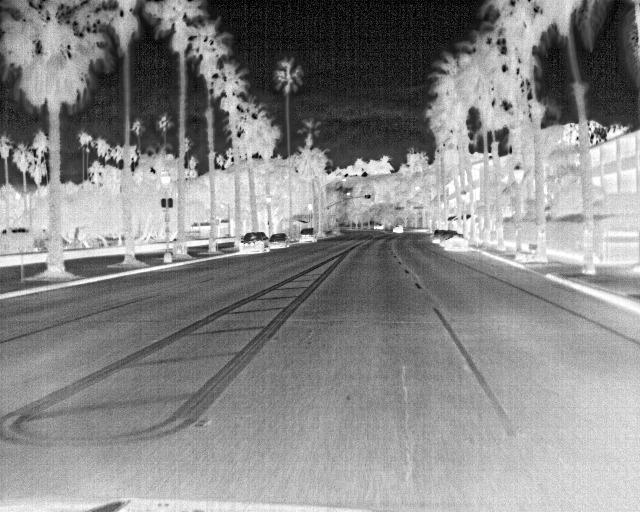car: (237, 232, 271, 254), (443, 234, 470, 253), (293, 226, 316, 245), (267, 230, 287, 247), (440, 229, 458, 245), (431, 228, 449, 243), (371, 219, 385, 233), (392, 223, 406, 235)
